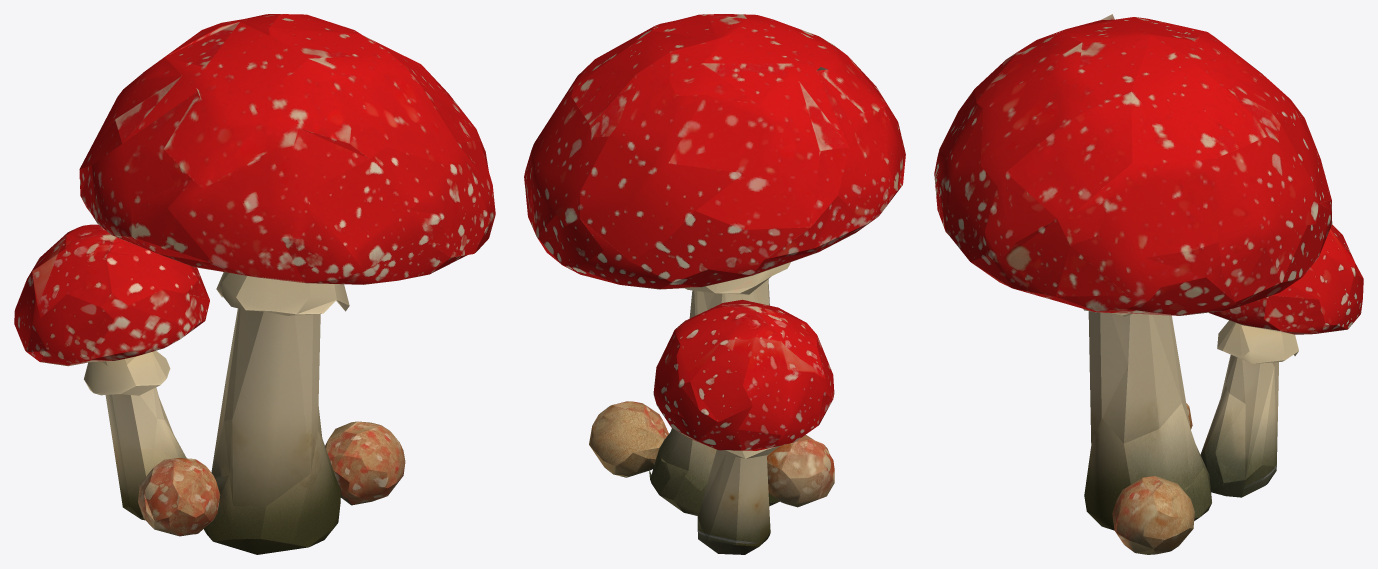
File: mushroom.glb
3 renders of one model, left to right at view 1: azimuth 30°, elevation 25°; view 2: azimuth 150°, elevation 25°; view 3: azimuth 270°, elevation 25°, orthographic. The views are drawn at different scales.
Bounding box in the file's own units: 1.46 × 1.9 × 1.55.
Materials: 1 (1 with a texture image).
